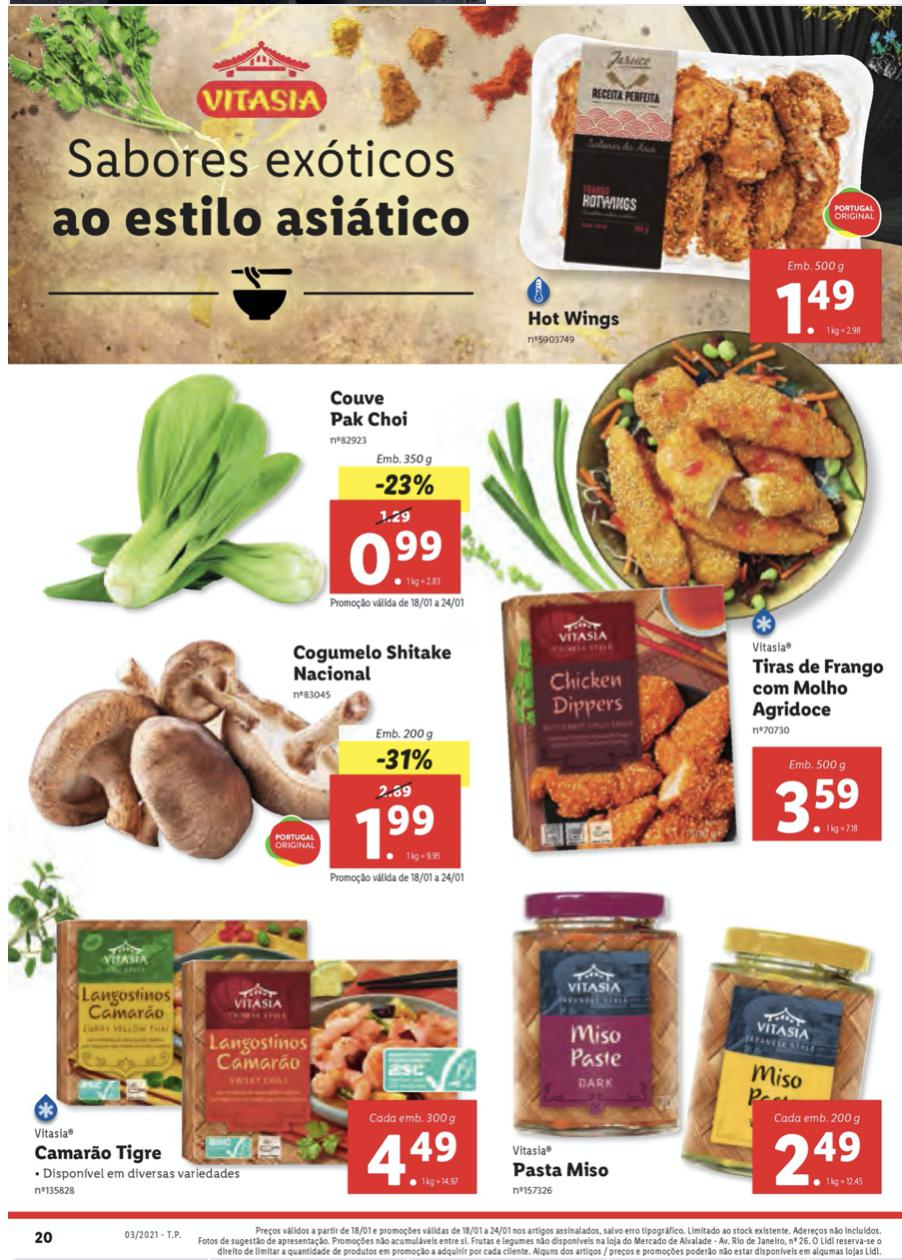name: (751, 654, 891, 721), (291, 638, 455, 688), (326, 388, 413, 434), (524, 306, 629, 337), (32, 1143, 166, 1166), (511, 1159, 616, 1185)
price: (363, 1127, 460, 1195), (769, 274, 872, 338), (346, 802, 443, 868), (772, 1132, 871, 1195), (774, 773, 869, 837), (349, 526, 446, 588)
product: (483, 341, 896, 852), (11, 898, 488, 1207), (493, 16, 897, 363), (499, 871, 893, 1196), (19, 621, 488, 885), (19, 368, 476, 621)
promotion: (372, 471, 436, 501), (376, 743, 433, 774)
